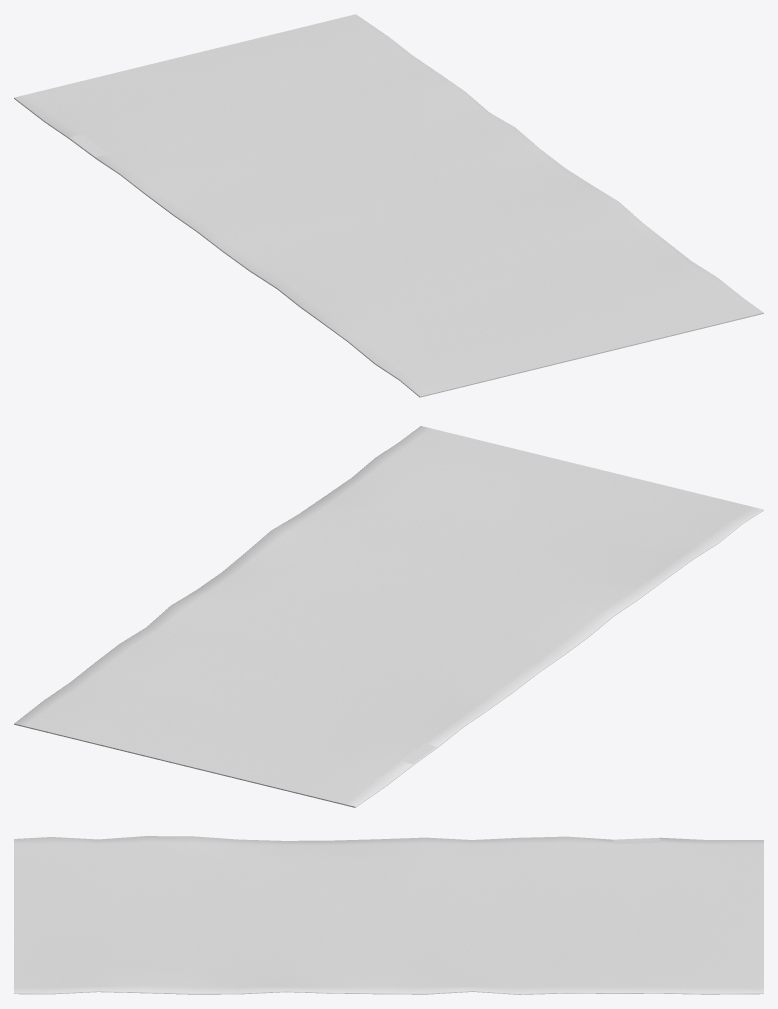
The model's file is DecorAisleRunner01_2.FBX.
The picture shows the model from 3 angles, top to bottom: view 1: azimuth 30°, elevation 25°; view 2: azimuth 150°, elevation 25°; view 3: azimuth 270°, elevation 25°; orthographic projection. The views are drawn at different scales.
Parts seen in each view (by area): view 1: DecorAisleRunner01_2; view 2: DecorAisleRunner01_2; view 3: DecorAisleRunner01_2.
Boxes of the visible parts, x1,y1,x2,y2 form: DecorAisleRunner01_2: (14,14,763,397); DecorAisleRunner01_2: (14,426,763,807); DecorAisleRunner01_2: (14,836,763,994).
Size of what is drawn, in the model's own units: 1.96 by 0.0259 by 4.
